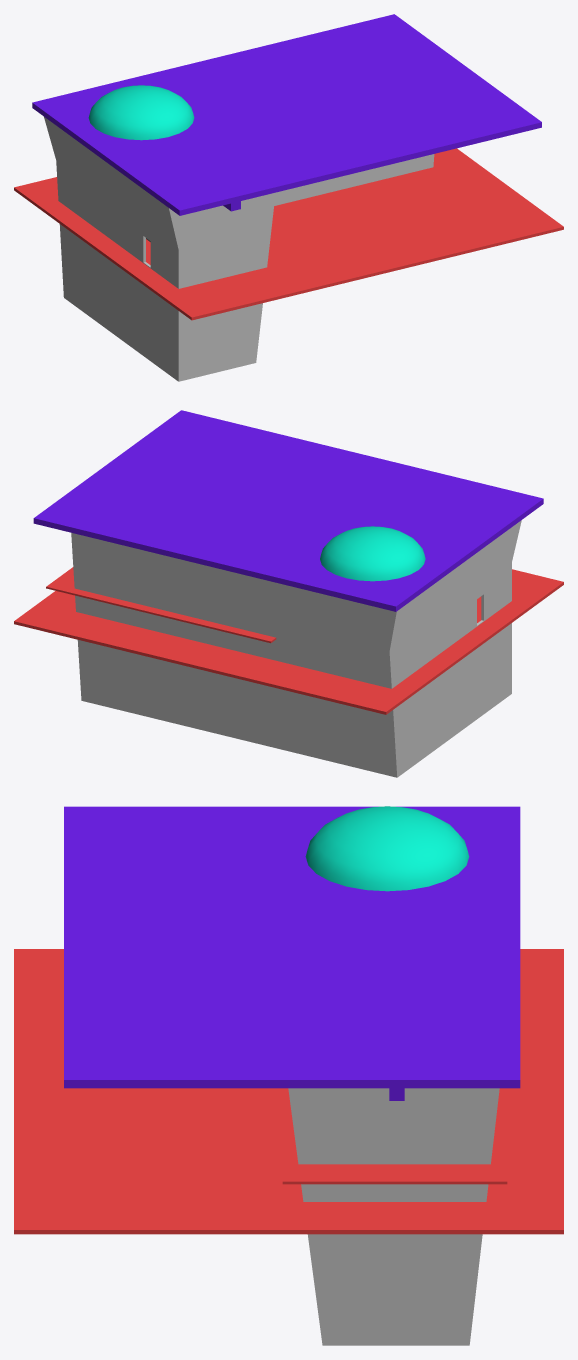
3 views of the same model, one above another, from view 1: azimuth 30°, elevation 25°; view 2: azimuth 150°, elevation 25°; view 3: azimuth 270°, elevation 25° (orthographic). The views are drawn at different scales.
Visible parts, largest first — view 1: roof, main, Cube_Cube_1, vault; view 2: main, roof, Cube_Cube_1, vault, seconde_floor; view 3: roof, Cube_Cube_1, main, vault, seconde_floor.
Part boxes in pixels (x1,y1,x2,y2): roof: (32, 14, 541, 215); main: (44, 117, 434, 381); Cube_Cube_1: (14, 148, 563, 320); vault: (88, 85, 194, 140); main: (71, 520, 521, 777); roof: (33, 410, 543, 611); Cube_Cube_1: (14, 569, 563, 714); vault: (320, 526, 425, 581); seconde_floor: (46, 567, 276, 643); roof: (64, 806, 520, 1100); Cube_Cube_1: (14, 949, 563, 1234); main: (288, 1088, 499, 1345); vault: (305, 806, 469, 891); seconde_floor: (282, 1088, 507, 1184).
Size of the model in its own units: 38.38 by 20.83 by 31.77.
